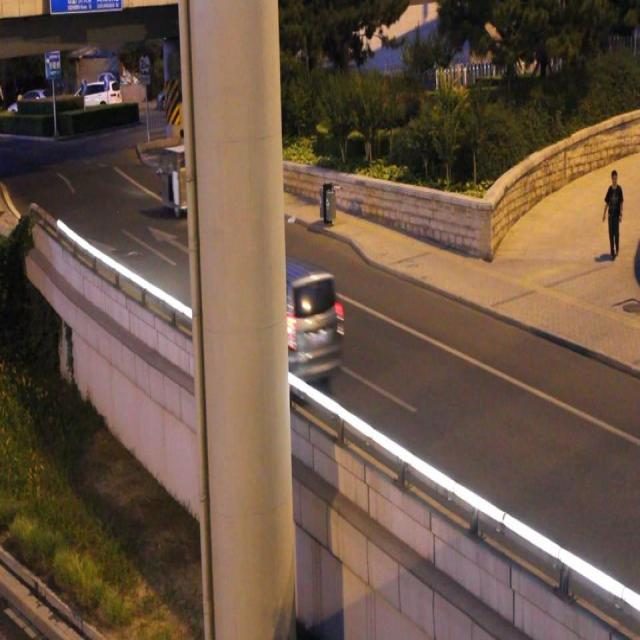car: (232, 256, 338, 384)
